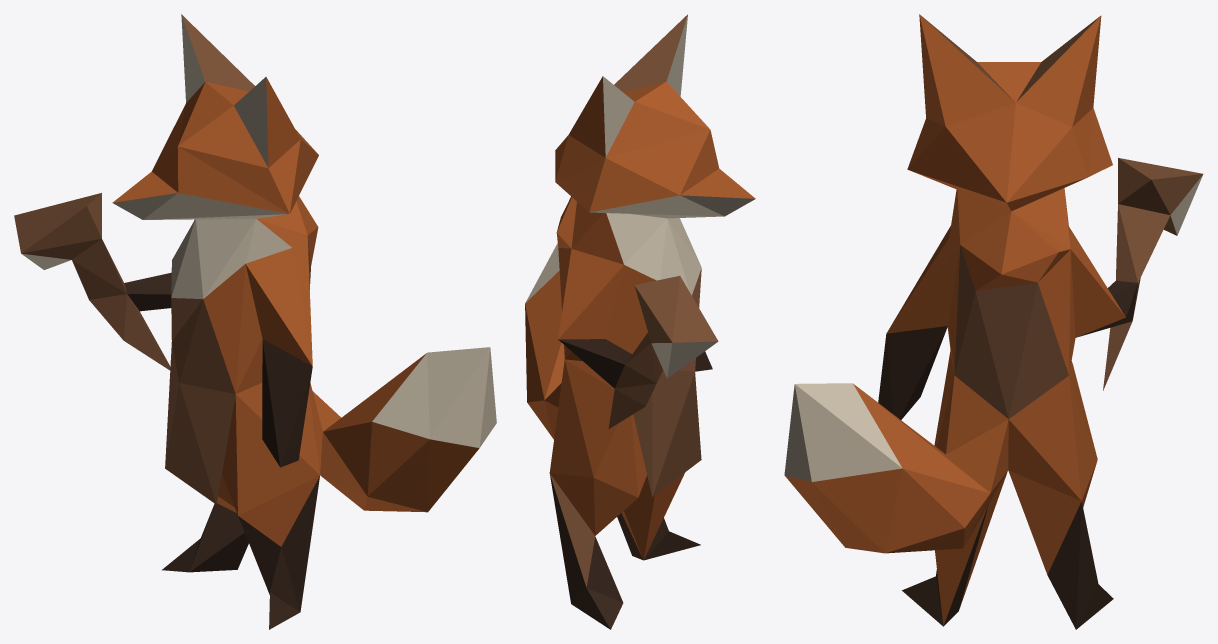
3 renders of one model, left to right at view 1: azimuth 30°, elevation 25°; view 2: azimuth 150°, elevation 25°; view 3: azimuth 270°, elevation 25°, orthographic. The views are drawn at different scales.
Parts seen in each view (by area): view 1: lion-200; view 2: lion-200; view 3: lion-200.
Part boxes in pixels (<box>): lion-200: <box>14,14,496,629</box>; lion-200: <box>525,14,755,629</box>; lion-200: <box>784,14,1203,629</box>.
Size of the model in its own units: 0.6047 by 1.01 by 0.6502.
